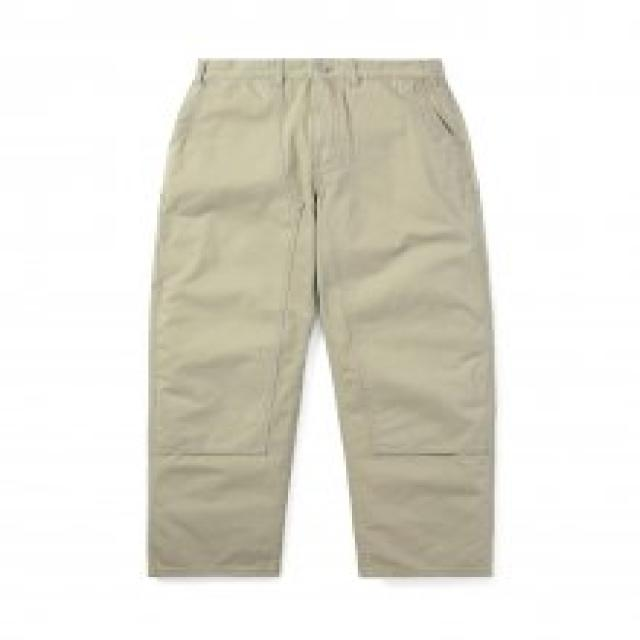long-pants: (151, 59, 498, 582)
